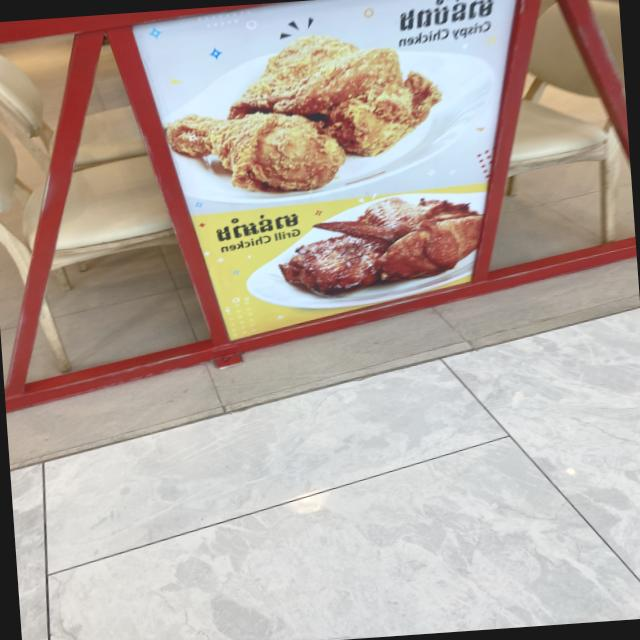Yolov11_80vkh: (393, 0, 499, 34), (212, 207, 302, 246)
